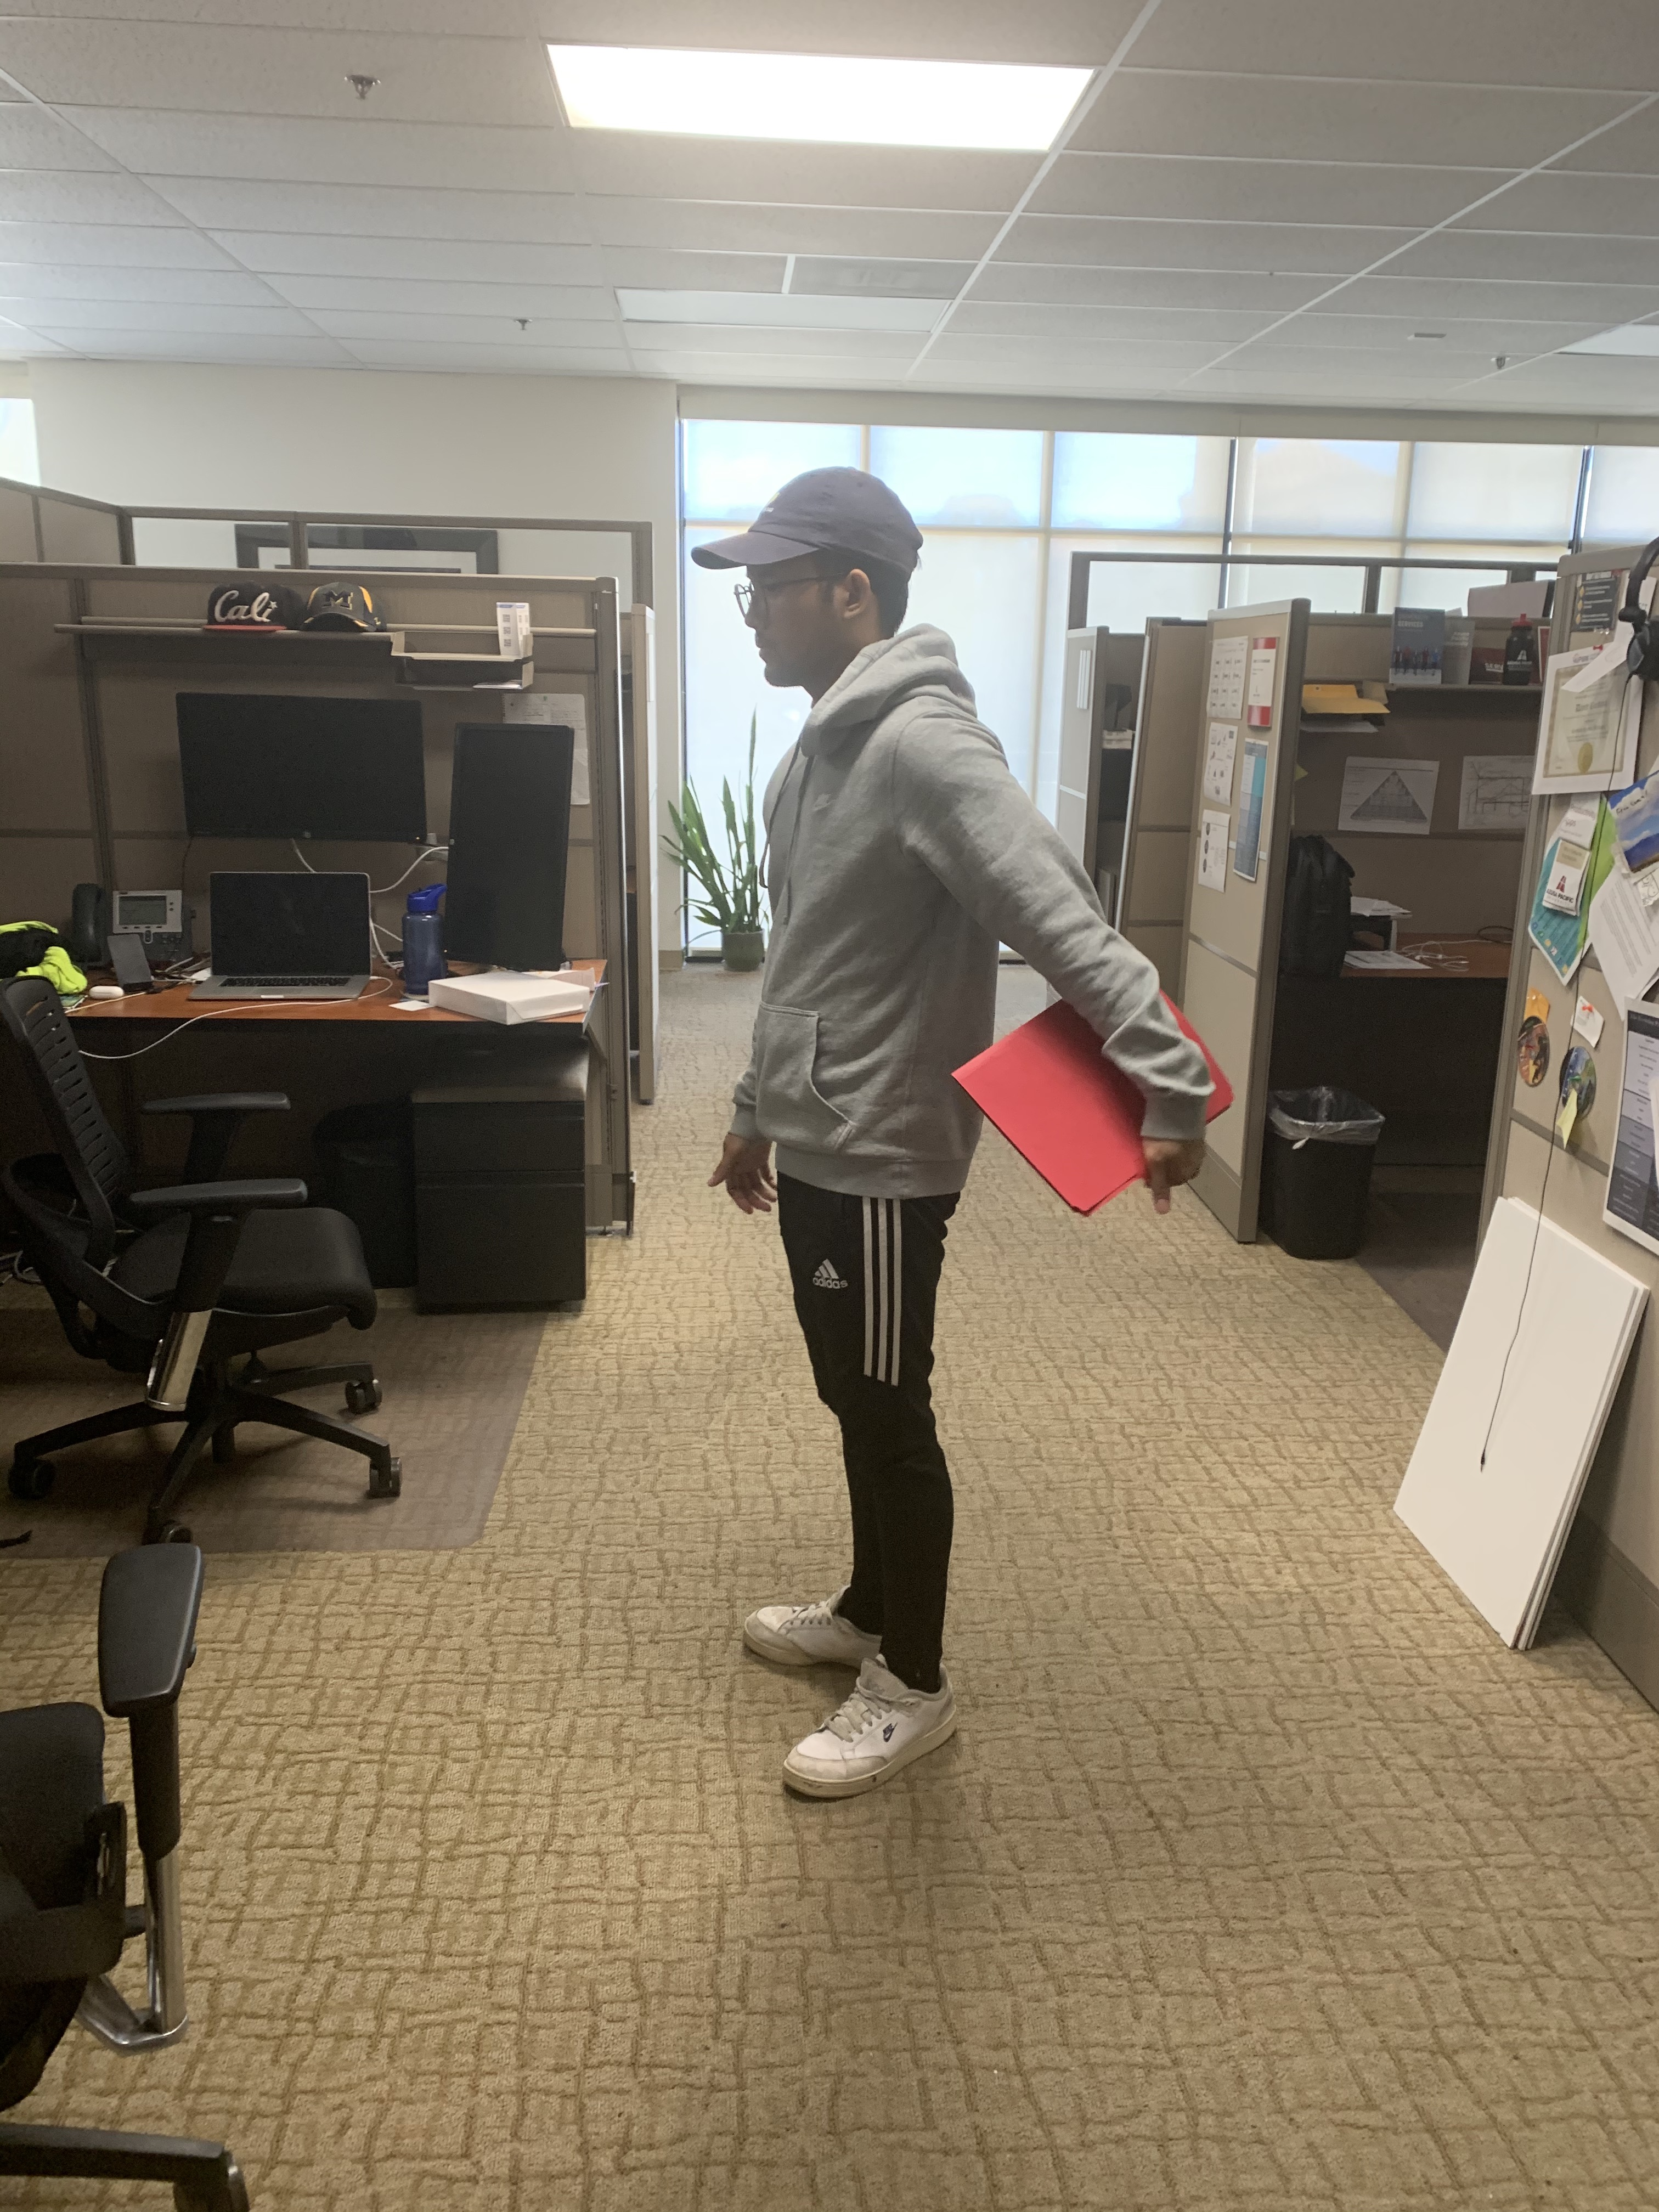red folder: (943, 953, 1265, 1221)
